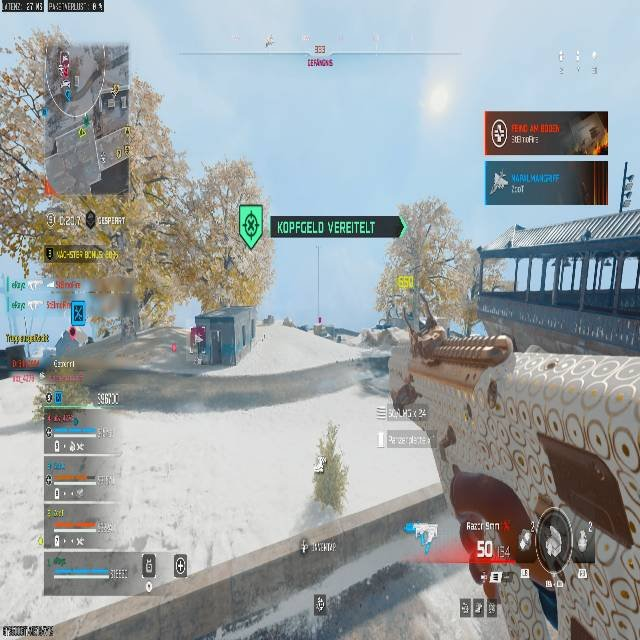player: (188, 325, 206, 365)
